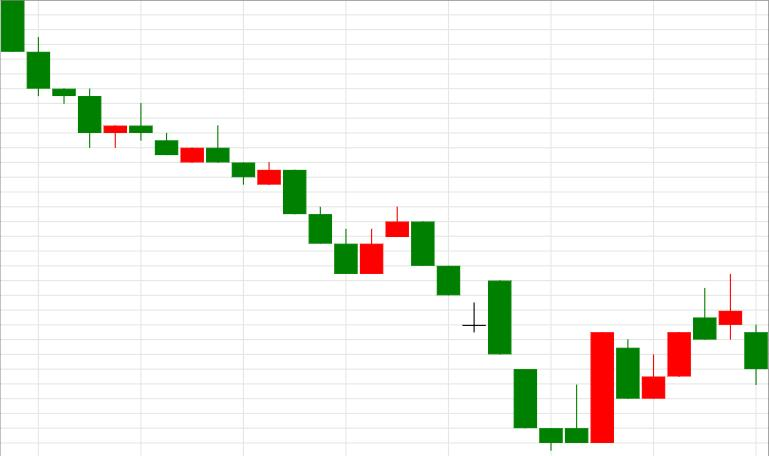bullish_engulfing_rise: (411, 222, 614, 451)
